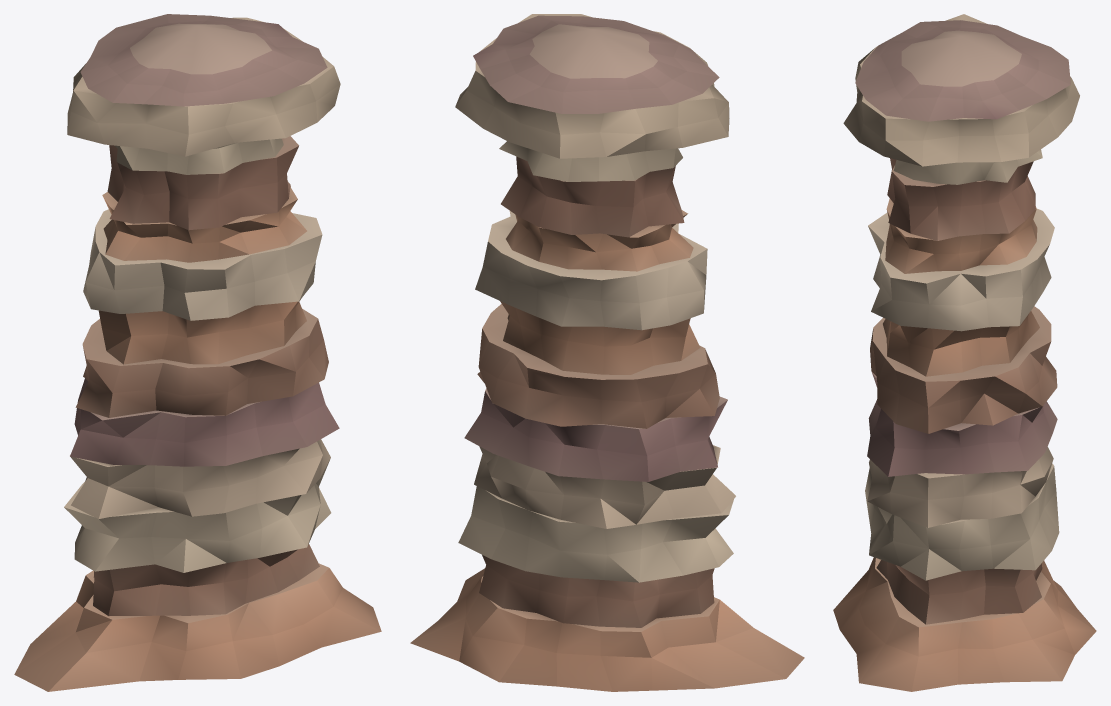
The model's file is butte_a.glb.
The picture shows the model from 3 angles, left to right: view 1: azimuth 30°, elevation 25°; view 2: azimuth 150°, elevation 25°; view 3: azimuth 270°, elevation 25°; orthographic projection. The views are drawn at different scales.
Visible parts, largest first — view 1: butte_a; view 2: butte_a; view 3: butte_a.
Part boxes in pixels (<box>): butte_a: <box>14,14,381,691</box>; butte_a: <box>410,14,804,691</box>; butte_a: <box>833,14,1096,691</box>.
Bounding box in the file's own units: 18.4 × 31.2 × 12.76.
